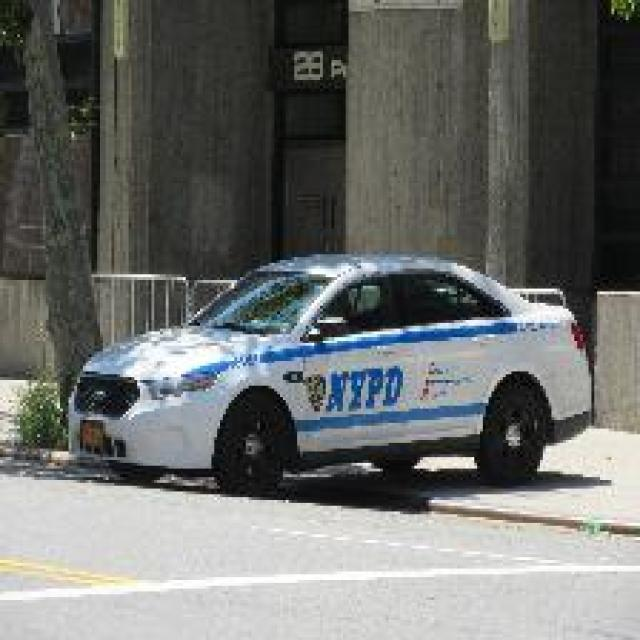emergency: (62, 246, 598, 494)
